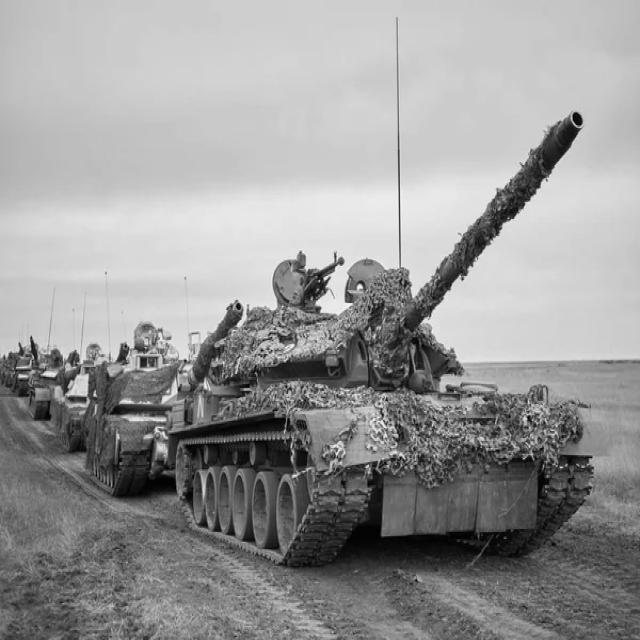Tank: (176, 105, 600, 564), (75, 274, 234, 504)
